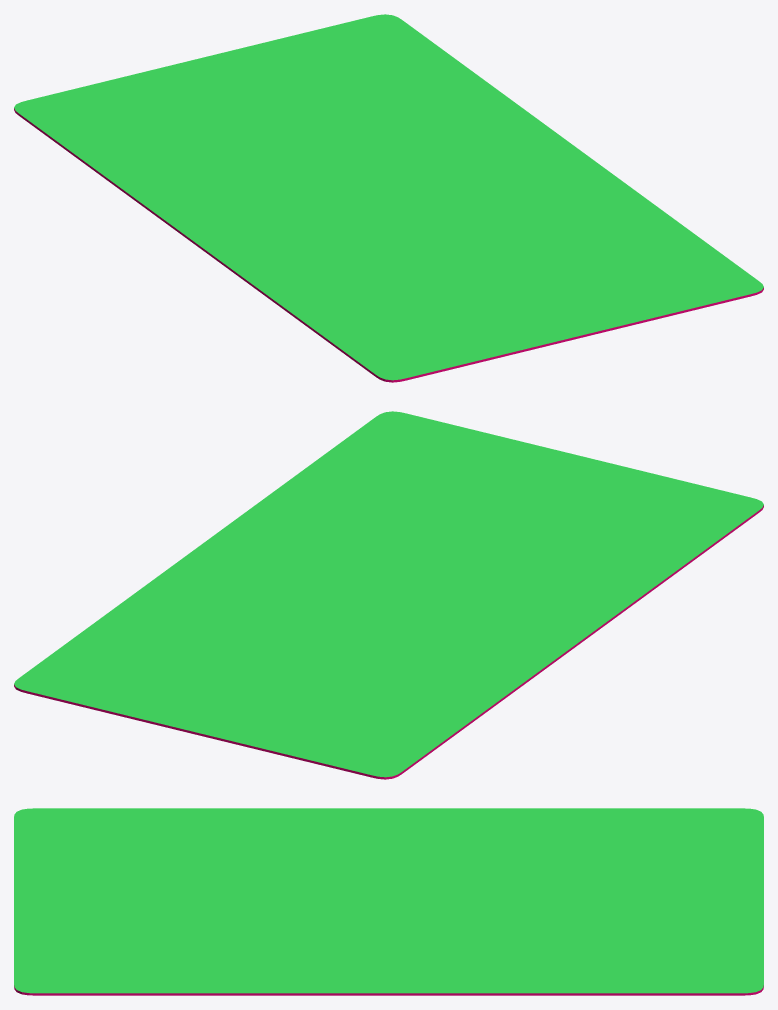
Rendered from tarotcard.glb.
3 views of the same model, one above another, from view 1: azimuth 30°, elevation 25°; view 2: azimuth 150°, elevation 25°; view 3: azimuth 270°, elevation 25° (orthographic).
Parts seen in each view (by area): view 1: Plane; view 2: Plane; view 3: Plane.
Boxes of the visible parts, <box> form: Plane: <box>14,14,763,382</box>; Plane: <box>14,411,763,779</box>; Plane: <box>14,808,763,995</box>.
Size of the model in its own units: 0.7 by 0.004 by 1.2.
